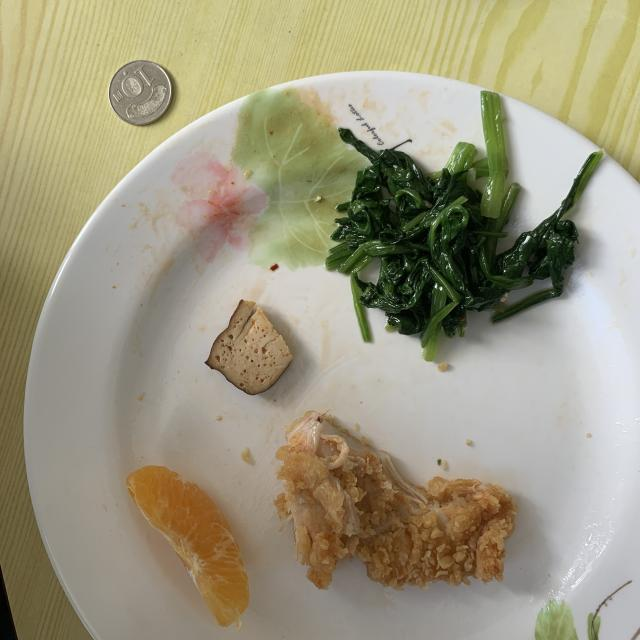coin: (109, 60, 172, 125)
firm tofu: (206, 300, 292, 395)
fried chicken cutlet: (275, 411, 518, 589)
mustard greens: (325, 91, 604, 361)
